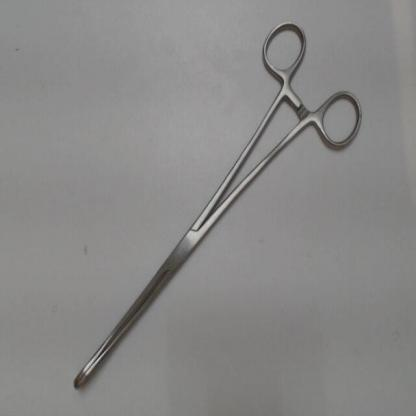Sponge Forceps: (66, 8, 367, 398)
